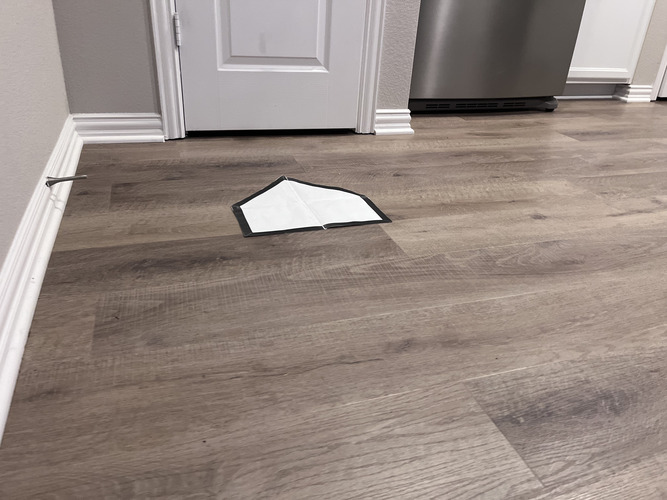homeplate: (233, 175, 393, 239)
